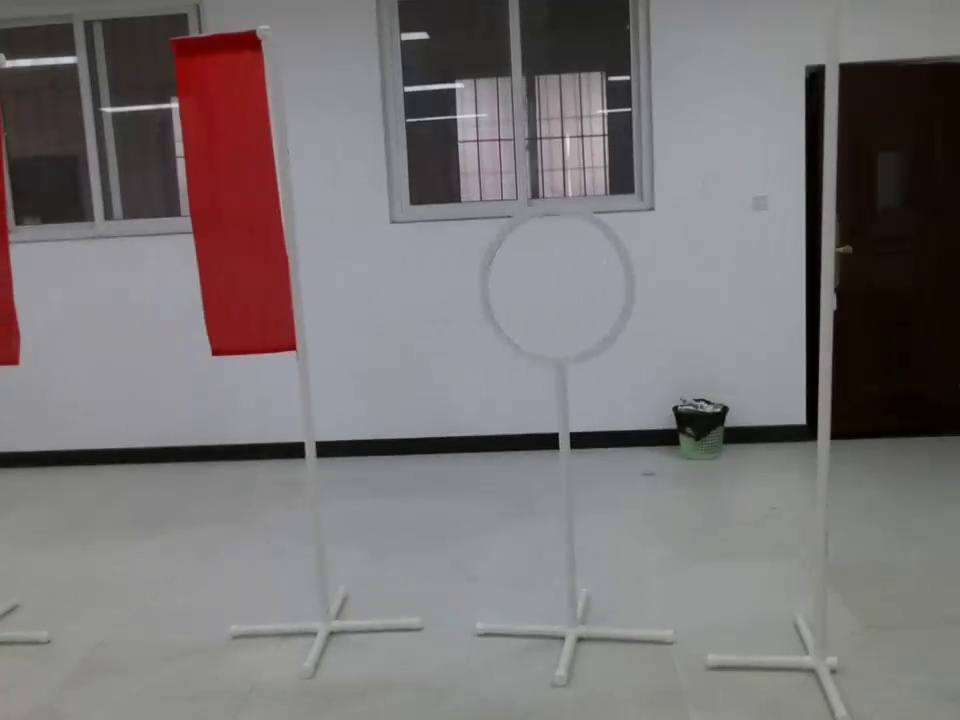gan: (810, 2, 841, 645)
qi: (170, 22, 309, 371)
quan: (468, 206, 640, 403)
